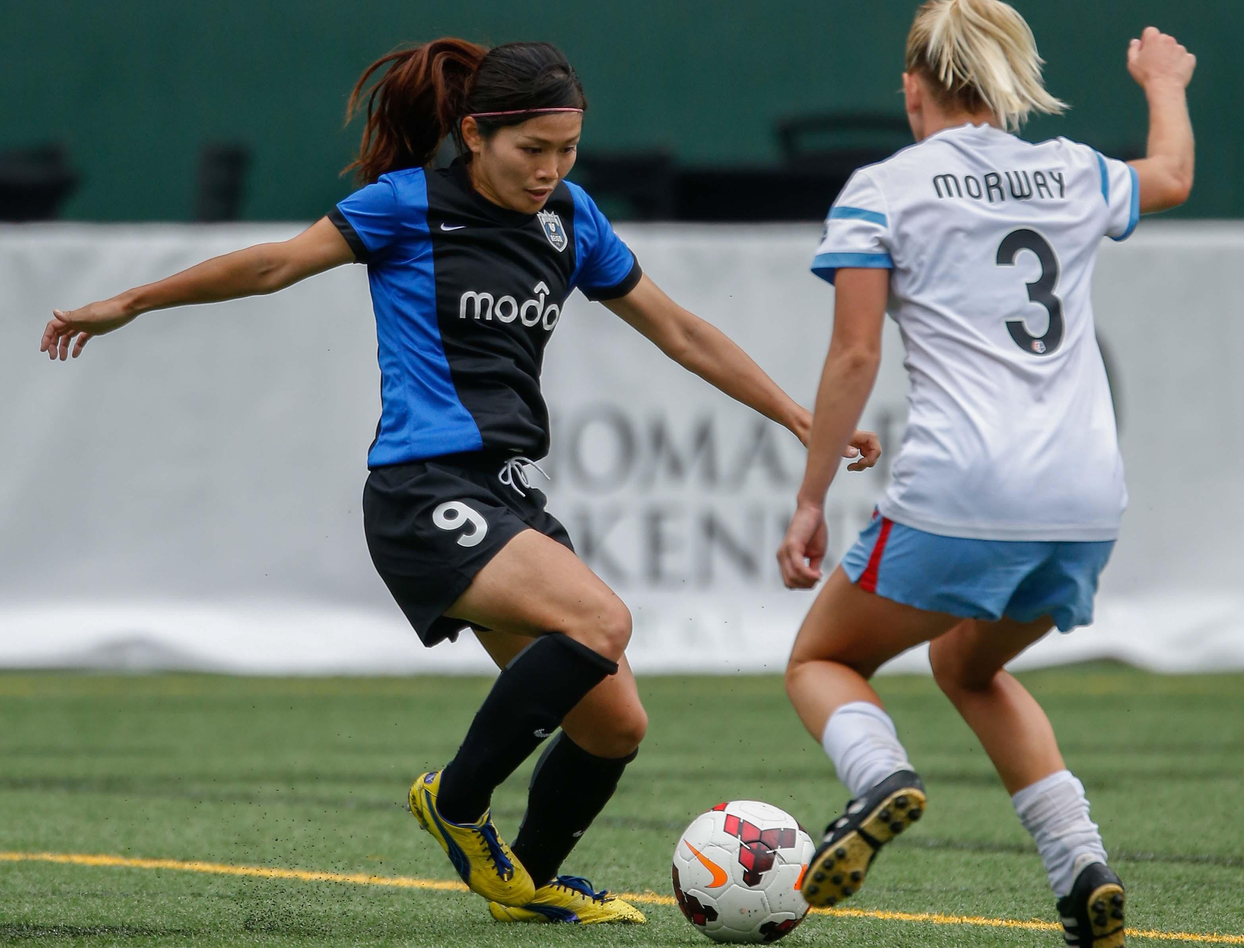ballon_football: (670, 799, 817, 945)
